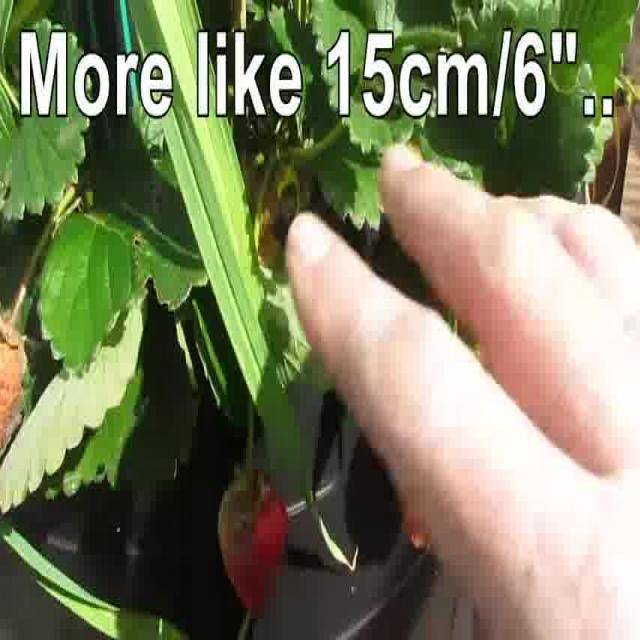Moho gris: (224, 479, 286, 618), (0, 316, 32, 456)
